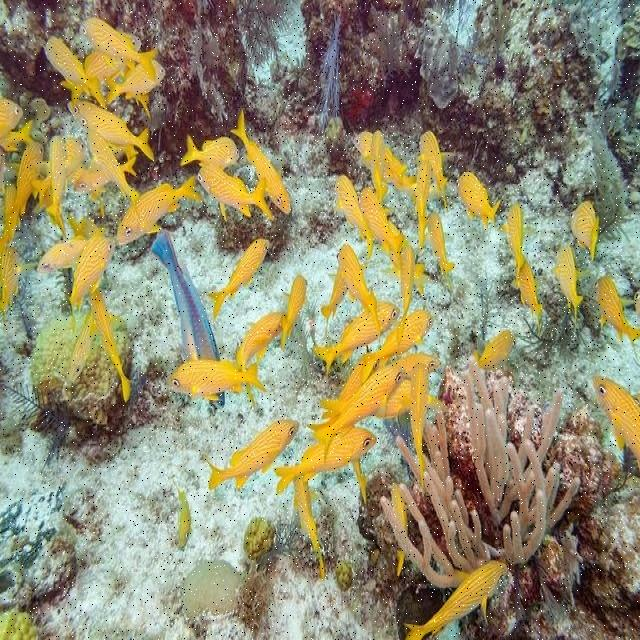aquatic plants: (381, 356, 581, 591)
fish: (150, 230, 225, 411), (313, 363, 404, 463), (404, 559, 510, 639), (273, 428, 376, 494), (230, 109, 291, 215), (204, 420, 299, 488), (312, 303, 400, 375), (117, 176, 203, 247), (362, 311, 433, 385), (88, 290, 133, 403), (208, 238, 270, 320), (80, 19, 157, 80), (46, 36, 107, 112), (592, 376, 639, 470), (197, 163, 272, 221), (78, 110, 155, 162), (336, 244, 381, 332), (168, 360, 266, 400), (409, 366, 441, 487), (352, 130, 413, 191), (4, 143, 44, 235), (86, 134, 140, 202), (359, 189, 405, 263), (335, 176, 377, 257), (293, 475, 325, 580), (61, 51, 126, 102), (69, 238, 114, 311), (392, 243, 421, 346), (595, 276, 639, 342), (417, 130, 455, 203), (454, 171, 500, 231), (236, 312, 282, 372), (44, 138, 71, 238), (105, 60, 166, 104), (320, 362, 365, 419), (551, 245, 584, 316), (499, 205, 527, 280), (181, 133, 239, 169), (511, 265, 544, 327), (281, 277, 309, 348), (363, 132, 389, 207), (427, 212, 456, 277), (569, 201, 600, 261), (36, 240, 90, 273), (68, 312, 92, 382), (473, 332, 514, 370), (321, 270, 348, 320), (416, 162, 431, 248), (395, 355, 442, 379), (30, 167, 58, 205), (58, 139, 86, 175), (3, 122, 34, 151), (73, 171, 112, 193), (177, 491, 192, 547), (3, 98, 24, 135), (68, 98, 101, 121)
